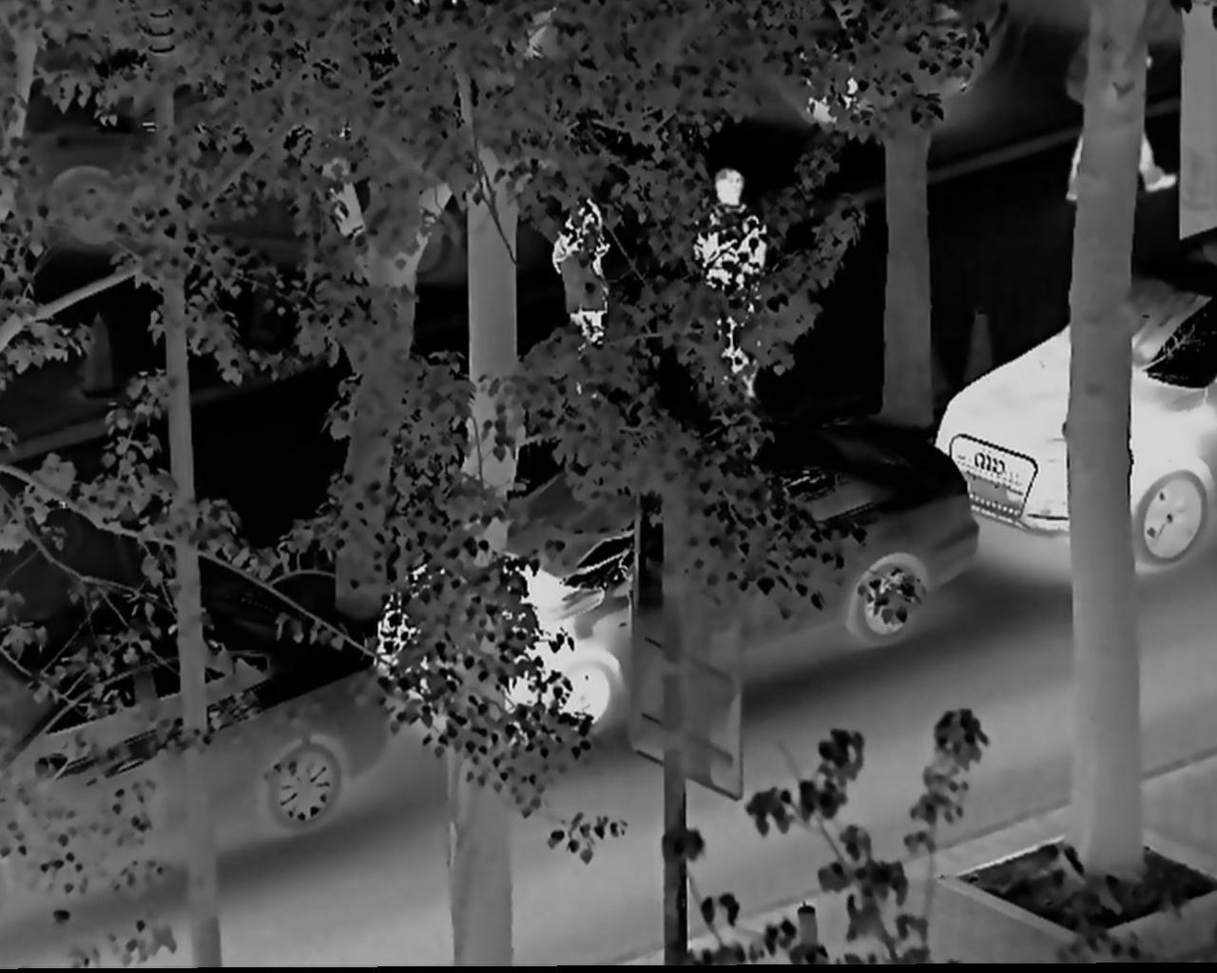person: (1058, 17, 1180, 209), (699, 165, 767, 409), (548, 197, 608, 361)
